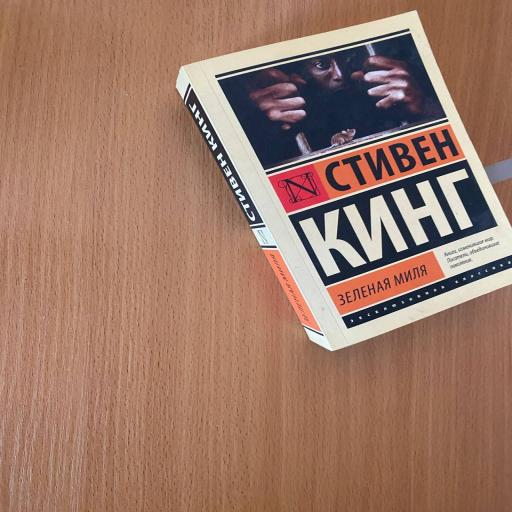bed: (176, 13, 512, 350)
phone: (0, 0, 512, 512)
